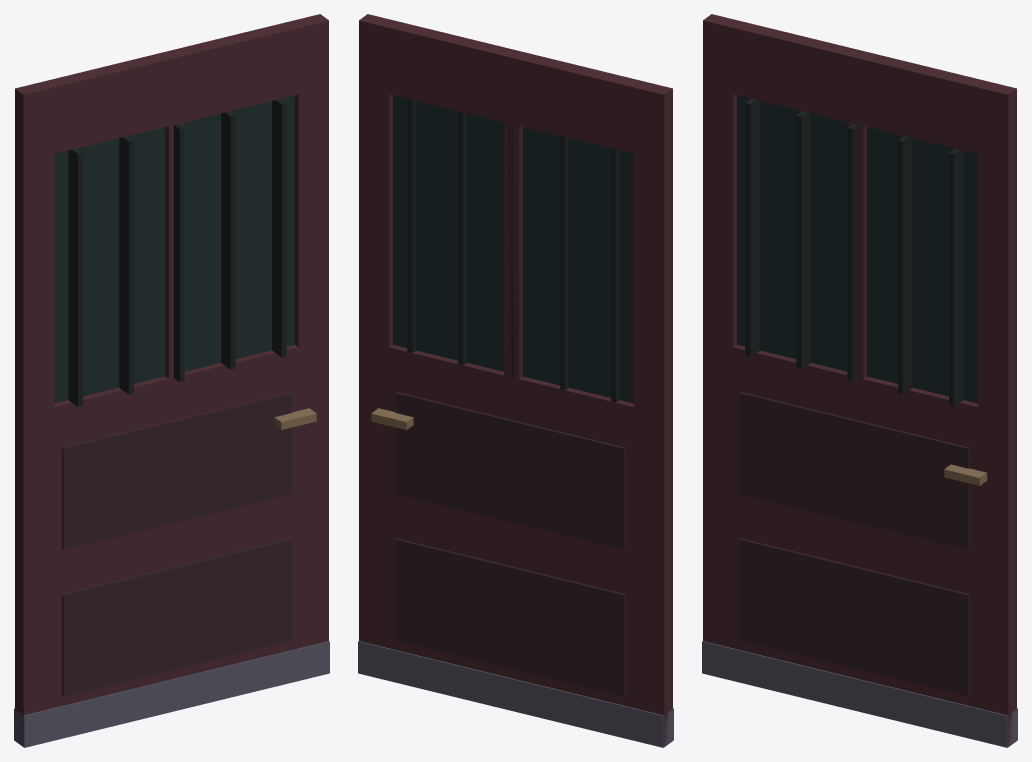
File: usa_primarie.glb
The picture shows the model from 3 angles, left to right: view 1: azimuth 30°, elevation 25°; view 2: azimuth 150°, elevation 25°; view 3: azimuth 330°, elevation 25°; orthographic projection.
Visible parts, largest first — view 1: Usa, GeamUsa; view 2: Usa, GeamUsa; view 3: Usa, GeamUsa.
Boxes of the visible parts, box(x1,y1,x2,y2) form: Usa: box(14, 14, 329, 747); GeamUsa: box(54, 95, 294, 403); Usa: box(358, 14, 673, 747); GeamUsa: box(393, 95, 633, 403); Usa: box(702, 14, 1017, 747); GeamUsa: box(737, 95, 977, 403).
Bounding box in the file's own units: 1.2 × 2.45 × 0.17.
